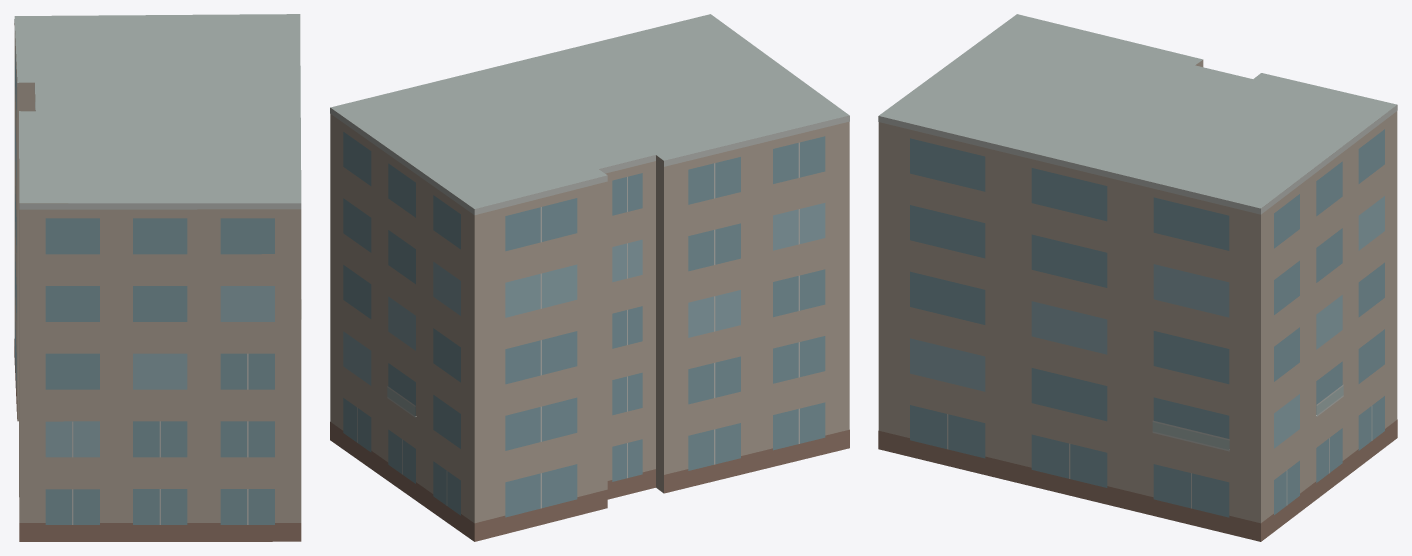
Rendered from survey-upis-33043783.glb.
The picture shows the model from 3 angles, left to right: view 1: azimuth 30°, elevation 25°; view 2: azimuth 150°, elevation 25°; view 3: azimuth 270°, elevation 25°; orthographic projection.
Parts seen in each view (by area): view 1: survey-upis-33043783.tmp; view 2: survey-upis-33043783.tmp; view 3: survey-upis-33043783.tmp.
Boxes of the visible parts, box(x1,y1,x2,y2) form: survey-upis-33043783.tmp: box(14, 14, 301, 541); survey-upis-33043783.tmp: box(330, 14, 849, 541); survey-upis-33043783.tmp: box(878, 14, 1397, 541).
Size of the model in its own units: 16.72 by 13.35 by 18.85.
